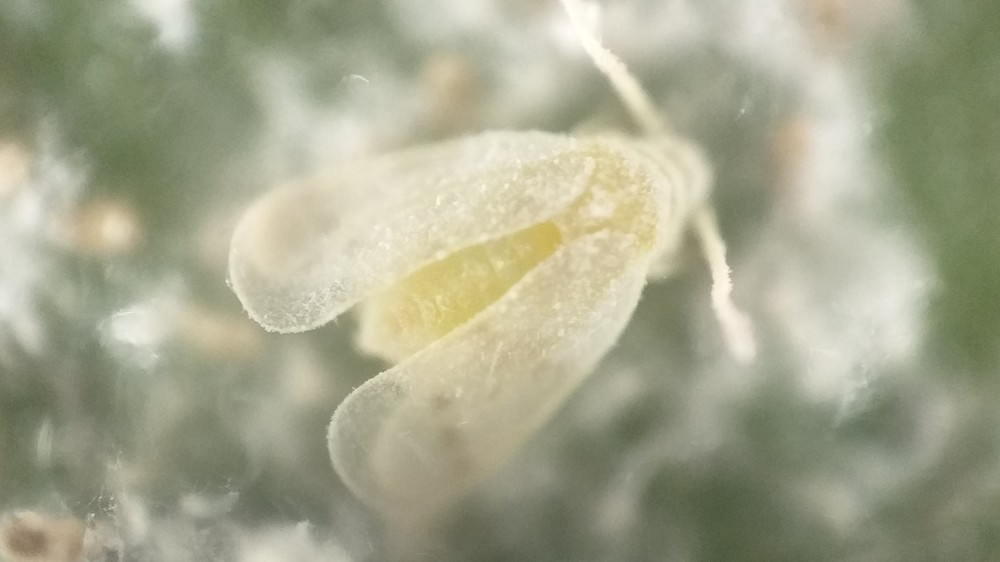Mosca Blanca: (221, 4, 808, 546)
